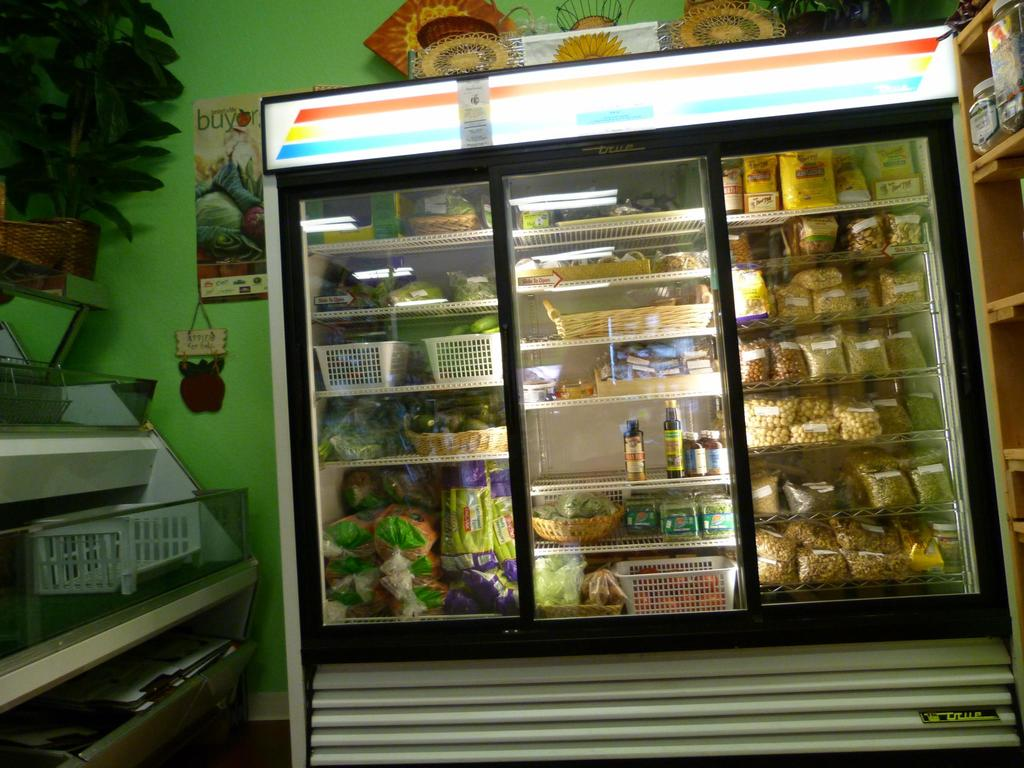refrigerator door: (500, 166, 739, 639), (722, 160, 958, 617), (291, 191, 507, 645)
